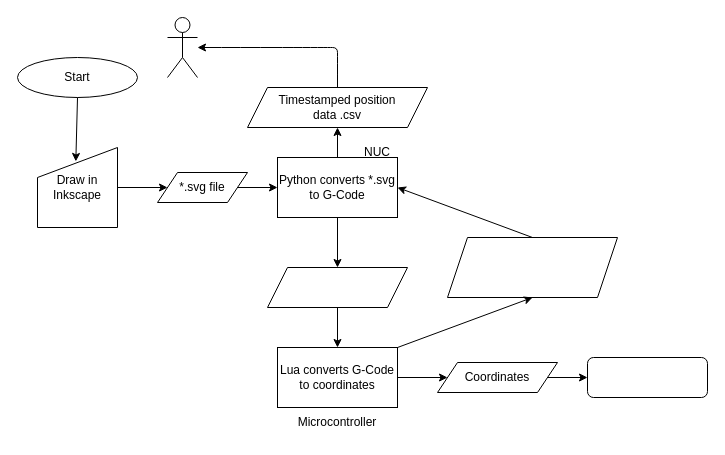
This 725x455 diagram has some shape labels left out. Each missing label, with the centre of its shape:
"Engineers" goes at point (182, 47).
"G-Code + timestamp packet" goes at point (337, 287).
"Motion Control Table Motors" goes at point (647, 377).
"Motor signal success confirmation + timestamp packet" goes at point (532, 267).
